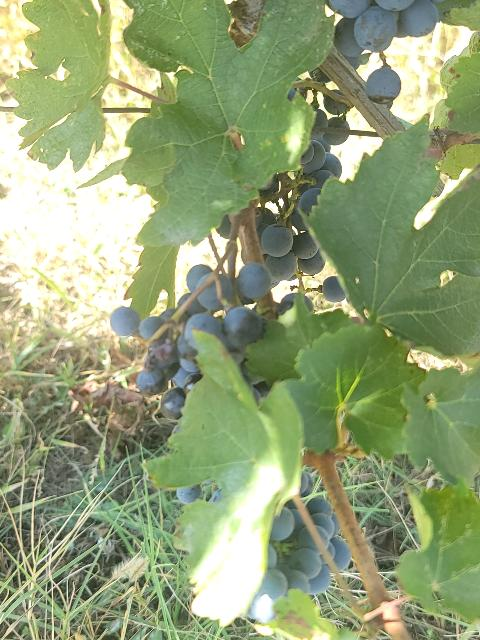grapes: (111, 265, 266, 395), (254, 90, 349, 288), (248, 500, 331, 622), (306, 496, 351, 570)
